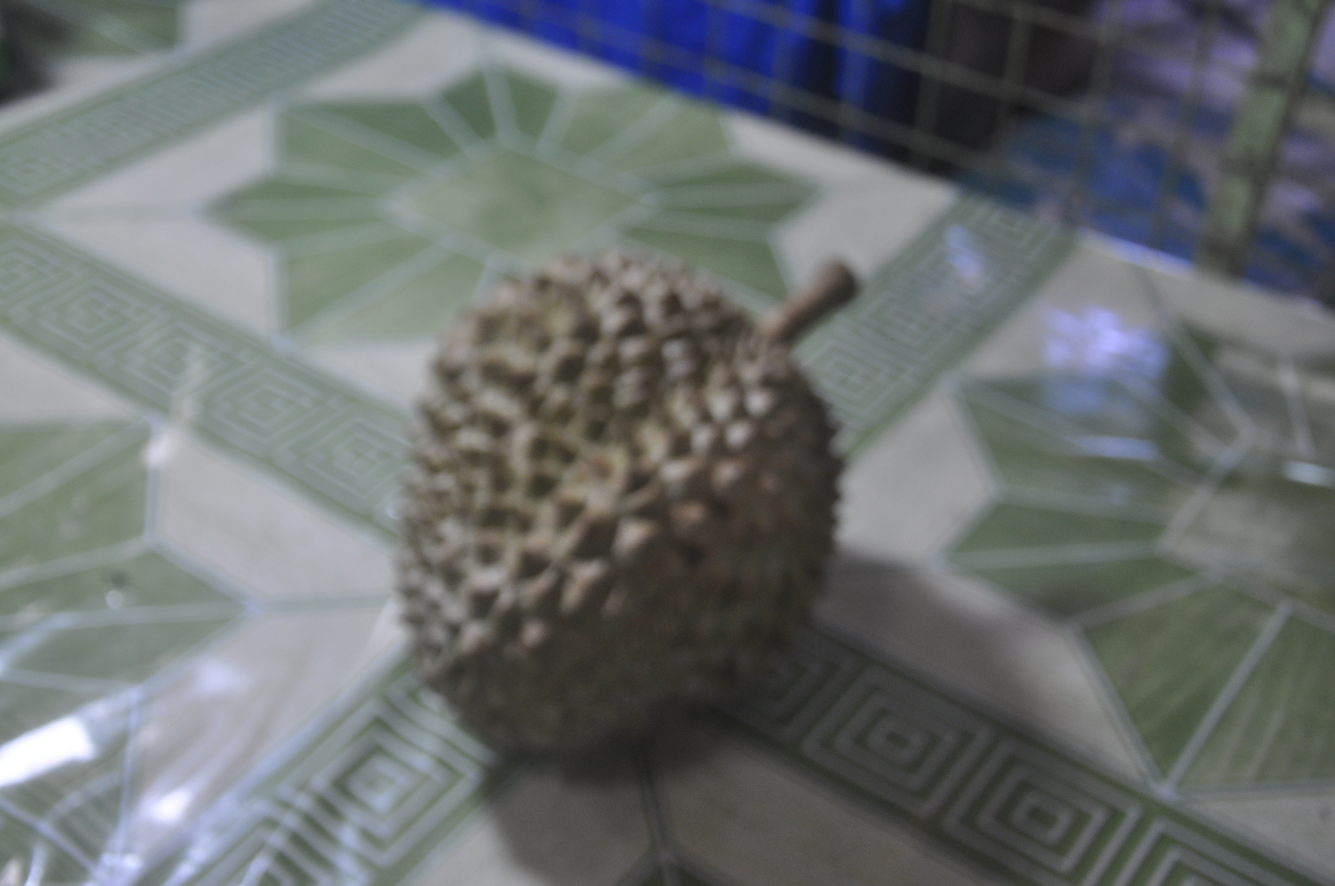mature: (286, 151, 977, 825)
